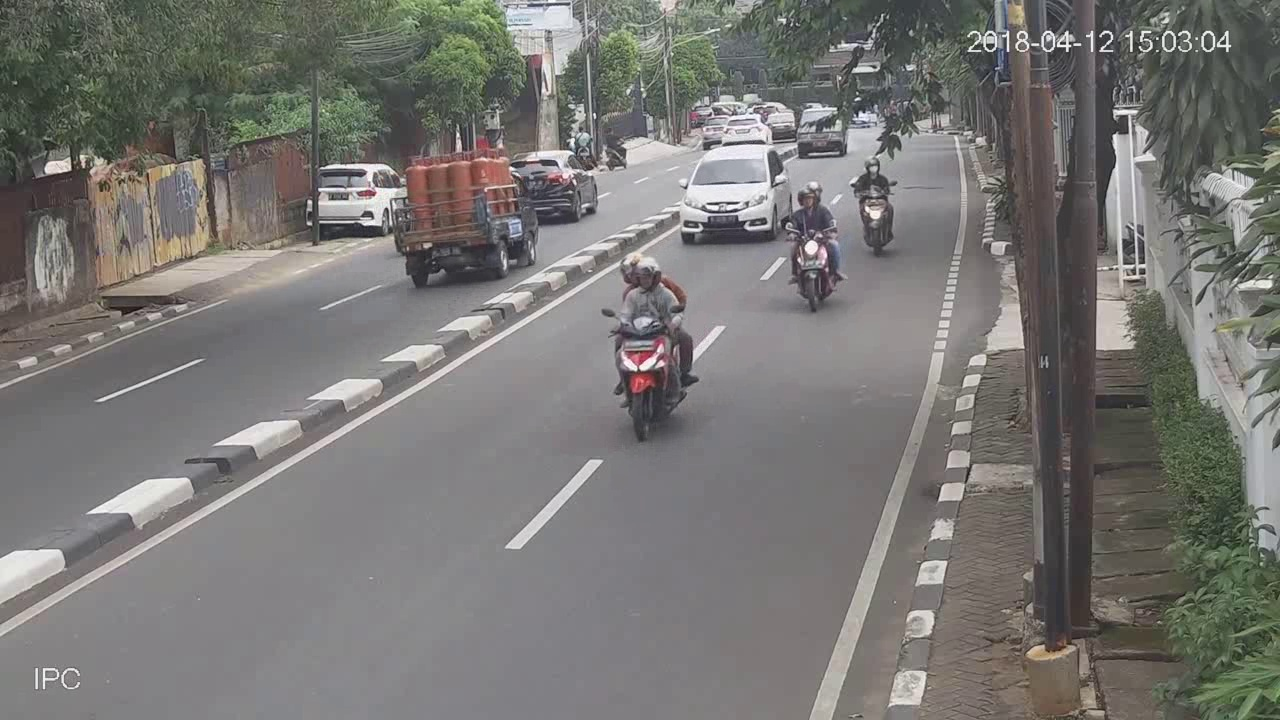car: (681, 139, 781, 247), (514, 147, 607, 226), (308, 157, 391, 238), (800, 103, 846, 162), (723, 112, 768, 145)
motorcycle: (600, 250, 705, 450), (778, 180, 853, 316), (847, 154, 905, 259)
truck: (391, 150, 543, 288)
